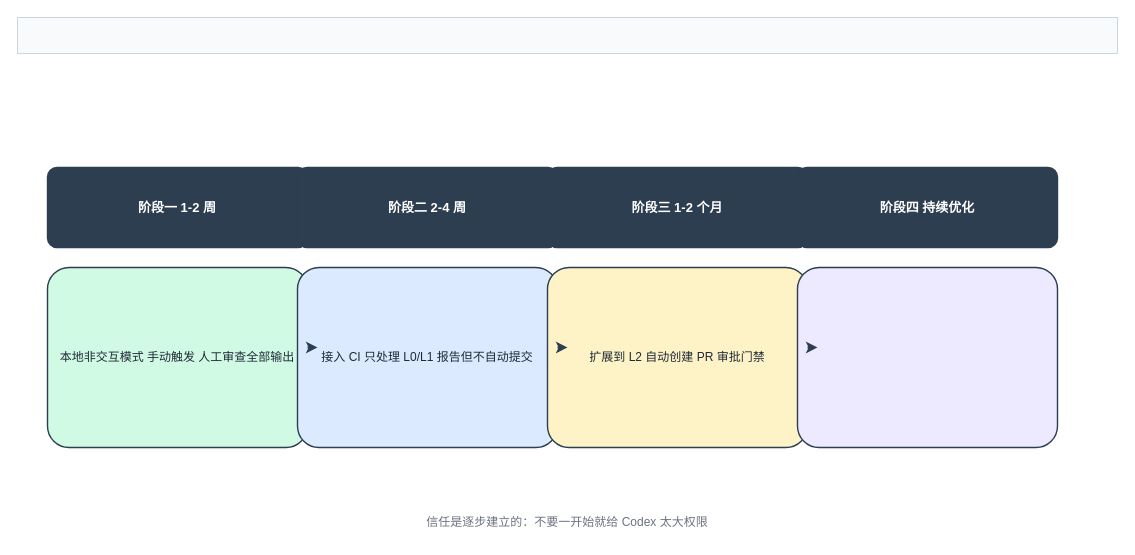
This 1135x555 diagram has some shape labels left out. The shapes that lost their labels are listed below. From the top down, each one's box as (x1, y1, x2, y2) in pixels, then its label:
(16, 16, 1118, 54): 图 12-4 Codex 自动化能力的渐进式落地路径
(796, 266, 1058, 448): 按反馈调整分级 扩大自主范围 保留 L3 人工执行
